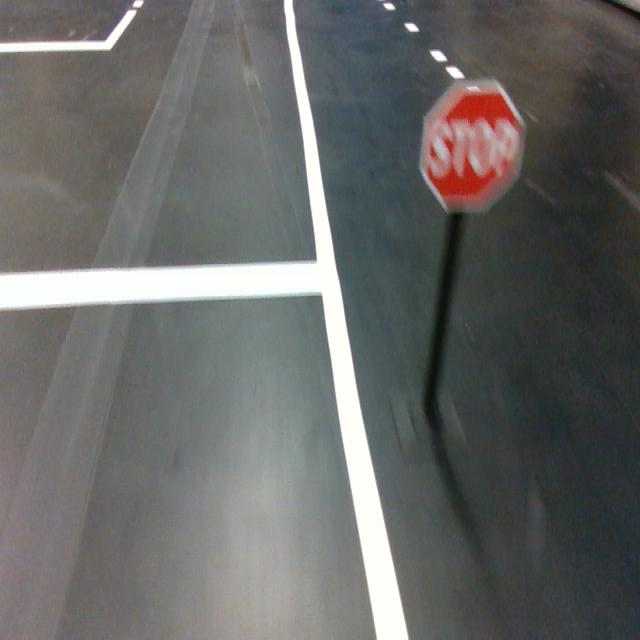stop-sign: (418, 78, 526, 215)
